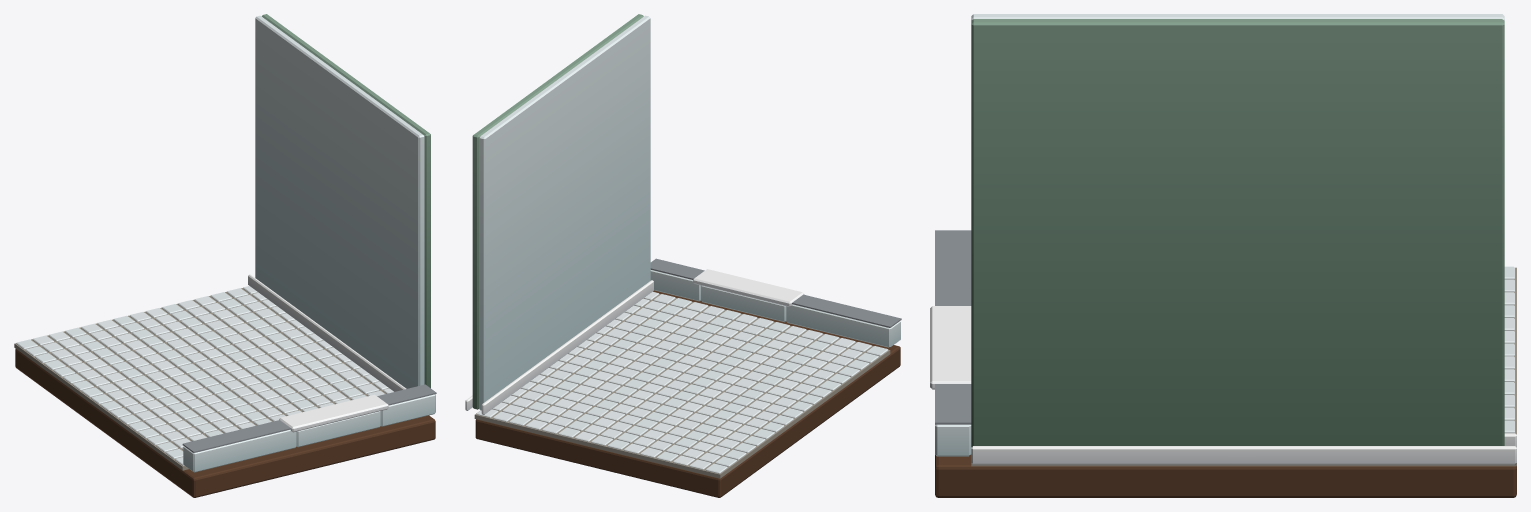
File: house-bathroom.glb
3 renders of one model, left to right at view 1: azimuth 30°, elevation 25°; view 2: azimuth 150°, elevation 25°; view 3: azimuth 270°, elevation 25°, orthographic. The views are drawn at different scales.
Parts seen in each view (by area): view 1: wall-bathroom-study, floor-bathroom, wall-bathroom-courtyard; view 2: wall-bathroom-study, floor-bathroom, wall-bathroom-courtyard; view 3: wall-bathroom-study, floor-bathroom, wall-bathroom-courtyard.
Boxes of the visible parts, <box> form: wall-bathroom-study: <box>248,14,430,391</box>; floor-bathroom: <box>14,286,435,497</box>; wall-bathroom-courtyard: <box>182,384,436,472</box>; wall-bathroom-study: <box>465,14,653,414</box>; floor-bathroom: <box>474,290,900,497</box>; wall-bathroom-courtyard: <box>650,258,901,347</box>; wall-bathroom-study: <box>971,14,1516,464</box>; floor-bathroom: <box>935,266,1516,497</box>; wall-bathroom-courtyard: <box>930,230,971,456</box>.
Size of the model in its own units: 3.9 by 4.38 by 4.84.
Materials: 1 (1 with a texture image).
